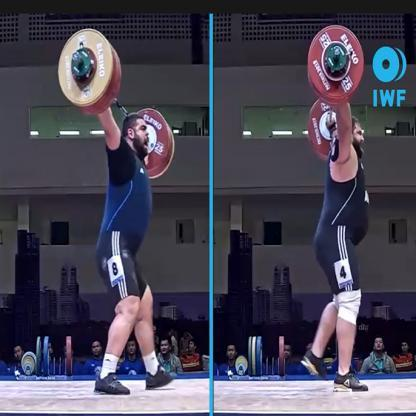barbell: (57, 28, 175, 179), (307, 25, 364, 161)
